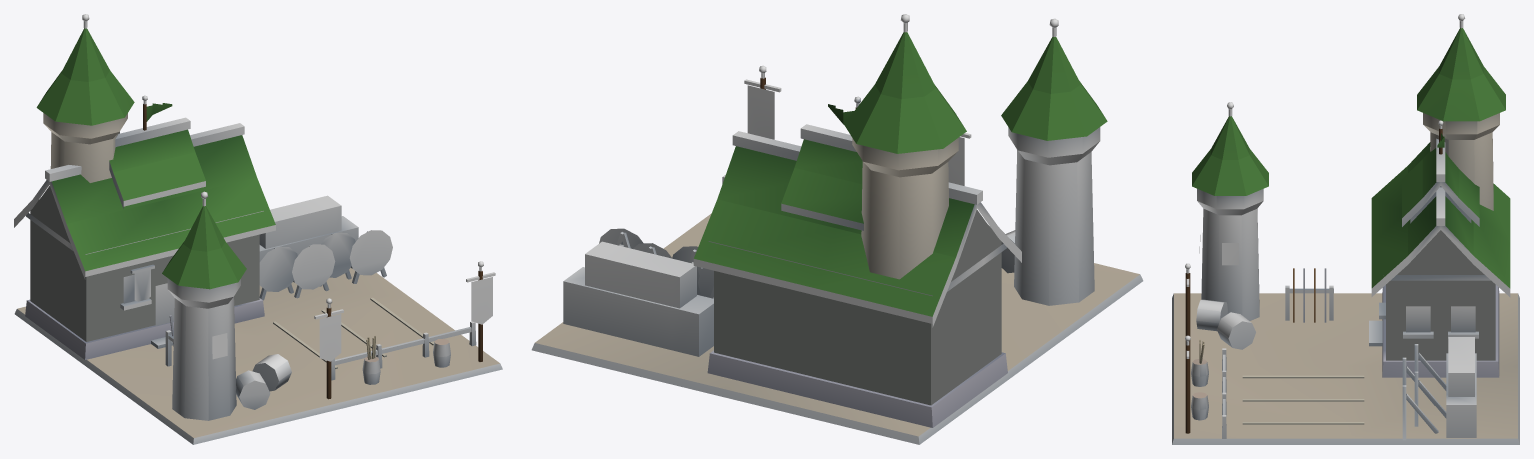
File: archery_range_t5.glb
The picture shows the model from 3 angles, left to right: view 1: azimuth 30°, elevation 25°; view 2: azimuth 150°, elevation 25°; view 3: azimuth 270°, elevation 25°; orthographic projection. The views are drawn at different scales.
Visible parts, largest first — view 1: archery_range_t5; view 2: archery_range_t5; view 3: archery_range_t5.
Boxes of the visible parts, left/top/right/bottom form: archery_range_t5: left=14, top=14, right=502, bottom=444; archery_range_t5: left=531, top=14, right=1143, bottom=444; archery_range_t5: left=1172, top=14, right=1519, bottom=444.
Size of the model in its own units: 3 by 2.75 by 2.86.
